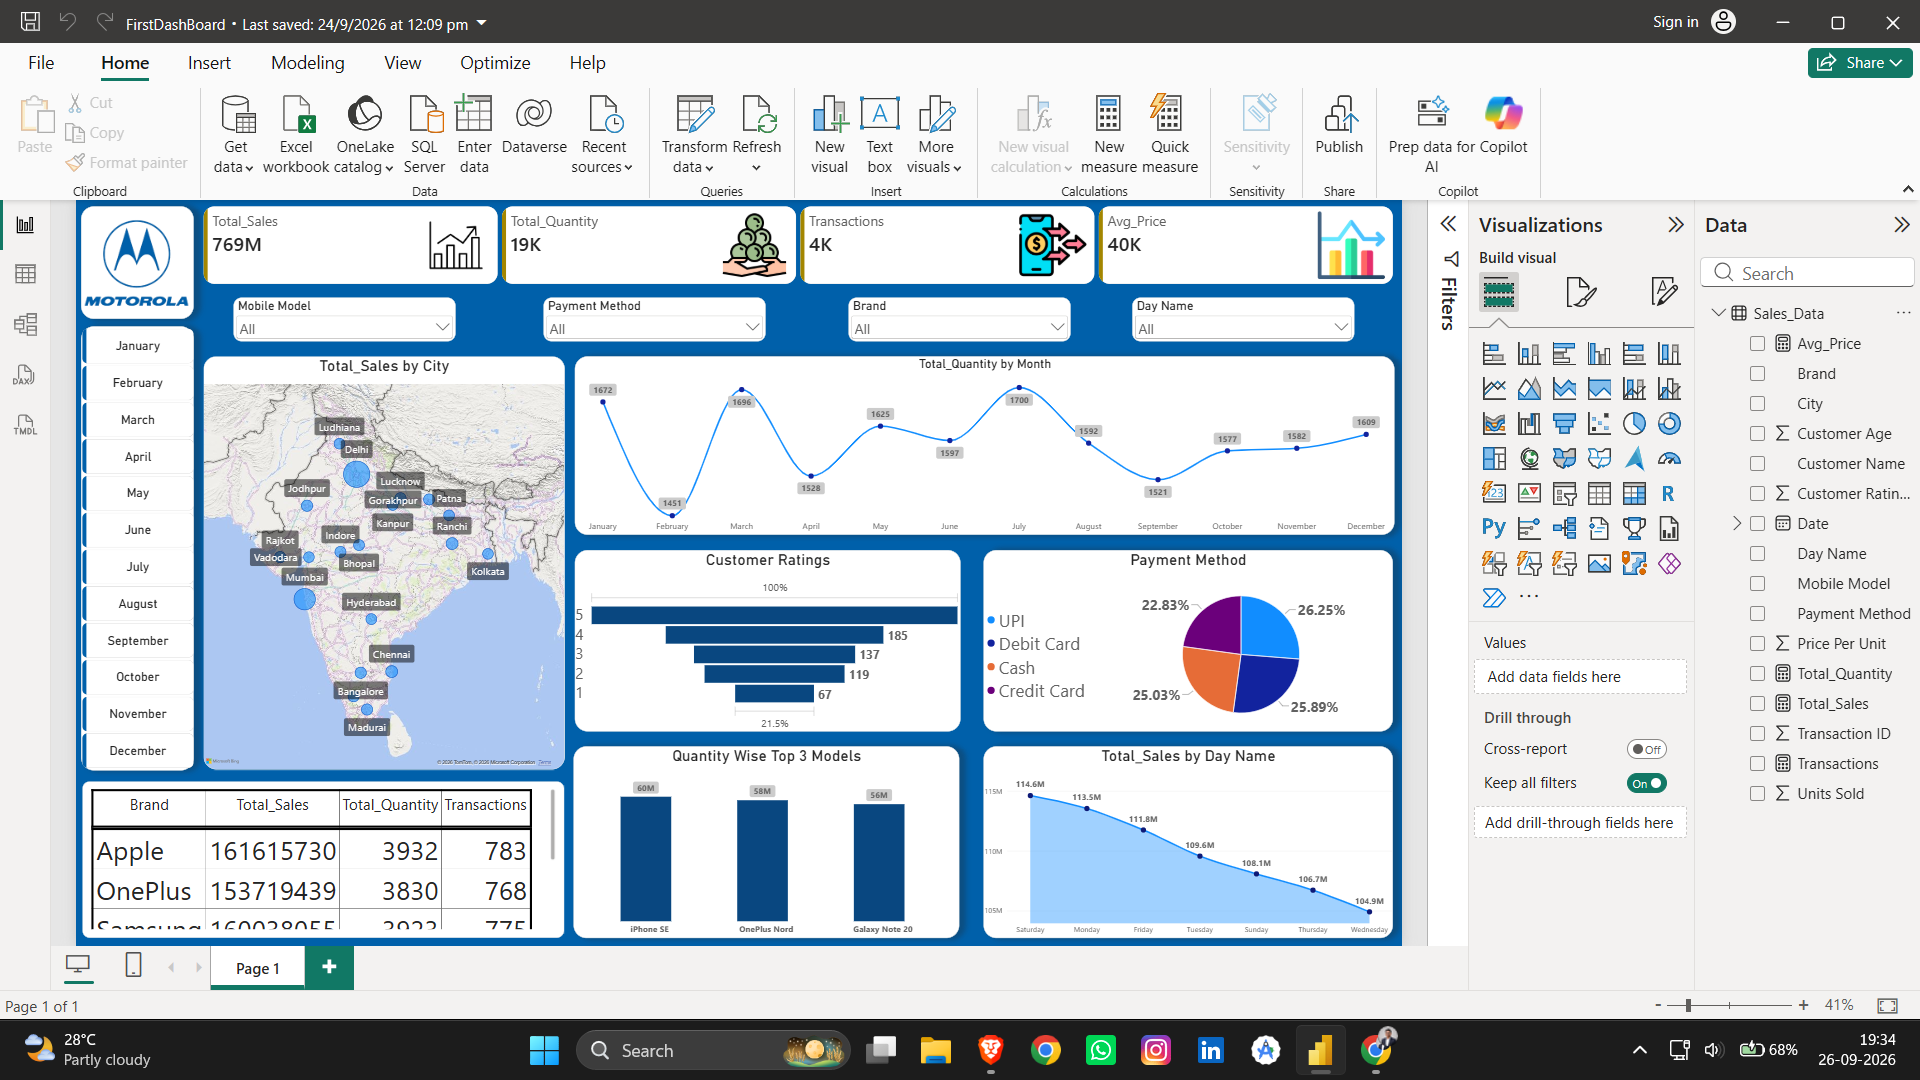

Layout of this report page (visuals, bound fields, positions):
{"tool":"powerbi","page":{"name":"Page 1","canvas":[2560,1440],"ordinal":0},"visuals":[{"type":"shape","box":[10,12.5,217.5,217.5],"z":0},{"type":"image","box":[10,22.5,215,200],"z":1000},{"type":"shape","box":[10,242.5,217.5,857.5],"z":2000},{"type":"advancedSlicerVisual","fields":{"Values":["Sales_Data.Date.Variation.Date Hierarchy.Month"]},"box":[12.5,247.5,215,852.5],"z":3000},{"type":"cardVisual","fields":{"Data":["Sales_Data.Total_Sales","Sales_Data.Total_Quantity","Sales_Data.Transactions","Sales_Data.Avg_Price"]},"box":[245,12.5,2297.5,150],"z":4000},{"type":"map","fields":{"Category":["Sales_Data.City"],"Size":["Sales_Data.Total_Sales"]},"box":[245,302.5,697.5,797.5],"z":5000},{"type":"lineChart","fields":{"Category":["Sales_Data.Date.Variation.Date Hierarchy.Month","Sales_Data.Date.Variation.Date Hierarchy.Day"],"Y":["Sales_Data.Total_Quantity"]},"box":[962.5,302.5,1582.5,345],"z":6000},{"type":"clusteredColumnChart","title":"Quantity Wise Top 3 Models","fields":{"Category":["Sales_Data.Mobile Model"],"Y":["Sales_Data.Total_Sales"]},"box":[960,1055,745,370],"z":7000},{"type":"pieChart","title":"Payment Method","fields":{"Category":["Sales_Data.Payment Method"],"Y":["Sales_Data.Transactions"]},"box":[1752.5,675,790,350],"z":8000},{"type":"funnel","title":"Customer Ratings","fields":{"Category":["Sales_Data.Customer Ratings"],"Y":["CountNonNull(Sales_Data.Customer Ratings)"]},"box":[962.5,675,745,350],"z":9000},{"type":"areaChart","fields":{"Category":["Sales_Data.Day Name"],"Y":["Sales_Data.Total_Sales"]},"box":[1752.5,1055,790,370],"z":10000},{"type":"tableEx","fields":{"Values":["Sales_Data.Brand","Sales_Data.Total_Sales","Sales_Data.Total_Quantity","Sales_Data.Transactions"]},"box":[12.5,1122.5,930,302.5],"z":11000},{"type":"slicer","fields":{"Values":["Sales_Data.Mobile Model"]},"box":[305,187.5,428.9,85.1],"z":12000},{"type":"slicer","fields":{"Values":["Sales_Data.Payment Method"]},"box":[902.5,187.5,428.9,85.1],"z":13000},{"type":"slicer","fields":{"Values":["Sales_Data.Brand"]},"box":[1490,187.5,428.9,85.1],"z":14000},{"type":"slicer","fields":{"Values":["Sales_Data.Day Name"]},"box":[2040,187.5,428.9,85.1],"z":15000}]}

Visuals, with their boxes on the page's 2560x1440 design canvas (x1, y1, x2, y2). These are canvas units, not pixel positions in the 1920x1080 screenshot, which may show the page scaled, cropped or inside an application window:
shape: select_region(10, 12, 228, 230)
image: select_region(10, 22, 225, 222)
shape: select_region(10, 242, 228, 1100)
advancedSlicerVisual - Sales_Data.Date.Variation.Date Hierarchy.Month: select_region(12, 248, 228, 1100)
cardVisual - Sales_Data.Total_Sales x Sales_Data.Total_Quantity: select_region(245, 12, 2542, 162)
map - Sales_Data.City x Sales_Data.Total_Sales: select_region(245, 302, 942, 1100)
lineChart - Sales_Data.Date.Variation.Date Hierarchy.Month x Sales_Data.Date.Variation.Date Hierarchy.Day: select_region(962, 302, 2545, 648)
"Quantity Wise Top 3 Models" clusteredColumnChart: select_region(960, 1055, 1705, 1425)
"Payment Method" pieChart: select_region(1752, 675, 2542, 1025)
"Customer Ratings" funnel: select_region(962, 675, 1708, 1025)
areaChart - Sales_Data.Day Name x Sales_Data.Total_Sales: select_region(1752, 1055, 2542, 1425)
tableEx - Sales_Data.Brand x Sales_Data.Total_Sales: select_region(12, 1122, 942, 1425)
slicer - Sales_Data.Mobile Model: select_region(305, 188, 734, 273)
slicer - Sales_Data.Payment Method: select_region(902, 188, 1331, 273)
slicer - Sales_Data.Brand: select_region(1490, 188, 1919, 273)
slicer - Sales_Data.Day Name: select_region(2040, 188, 2469, 273)
